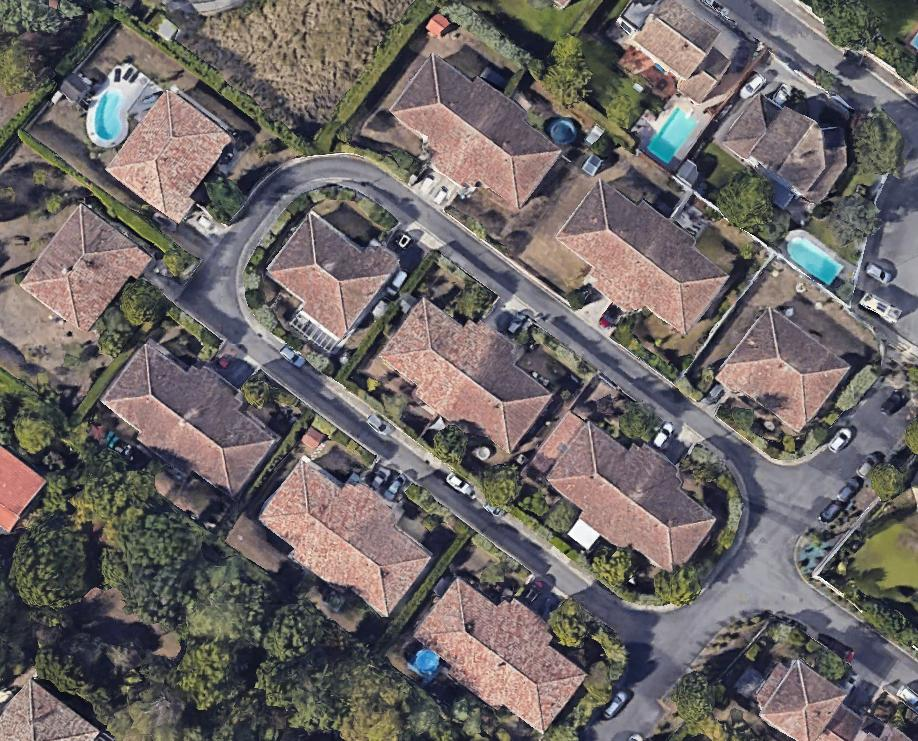maison: (523, 394, 730, 587), (94, 325, 288, 512), (371, 282, 563, 461), (406, 562, 598, 741), (248, 445, 442, 622), (544, 171, 736, 349), (377, 45, 569, 223), (257, 198, 402, 343), (104, 88, 241, 226), (17, 201, 152, 339), (712, 305, 850, 439), (719, 78, 860, 209), (623, 0, 742, 105), (747, 651, 877, 741), (0, 679, 96, 740), (0, 447, 46, 532)
